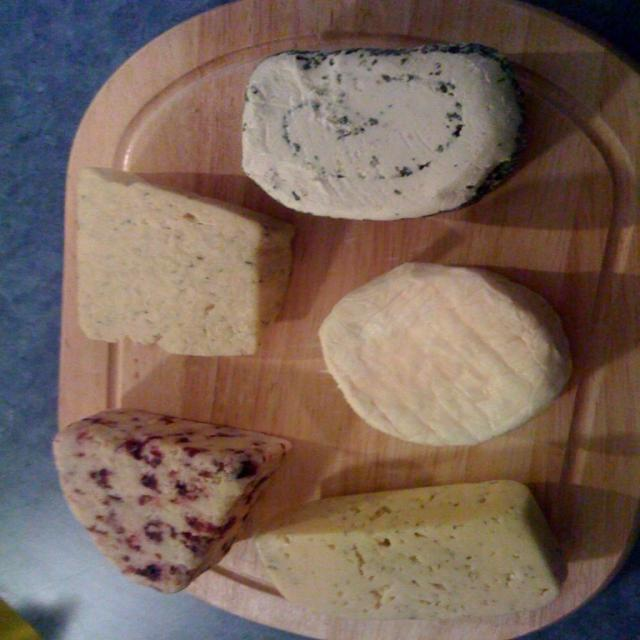Cheese: (310, 250, 580, 449), (234, 45, 529, 218), (250, 483, 552, 625), (69, 165, 290, 358)
